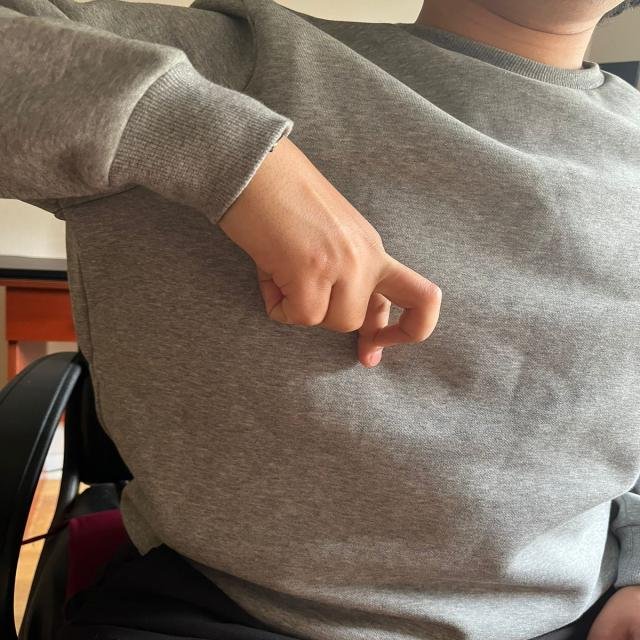P: (205, 116, 446, 373)
